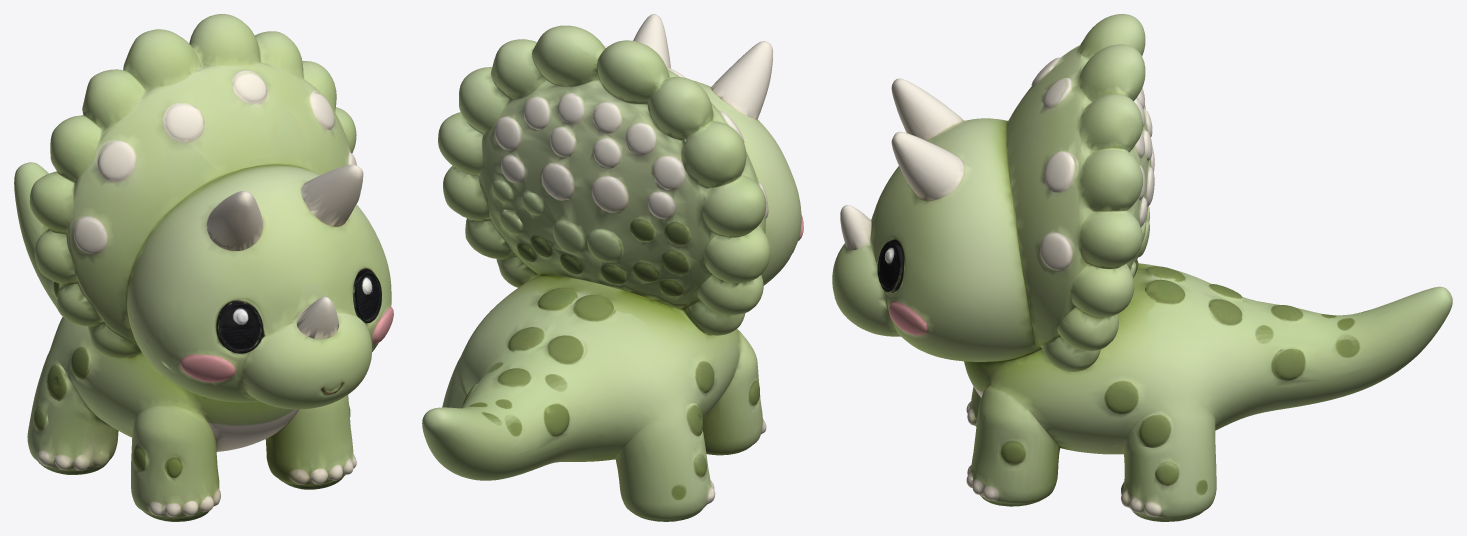
Rendered from malang-trike.glb.
3 renders of one model, left to right at view 1: azimuth 30°, elevation 25°; view 2: azimuth 150°, elevation 25°; view 3: azimuth 270°, elevation 25°, orthographic.
Visible parts, largest first — view 1: node_0; view 2: node_0; view 3: node_0.
Boxes of the visible parts, left/top/right/bottom form: node_0: left=14, top=14, right=393, bottom=521; node_0: left=422, top=14, right=803, bottom=521; node_0: left=832, top=14, right=1452, bottom=521.
Size of the model in its own units: 0.6998 by 0.9024 by 1.18.
1 material, 1 textured.
